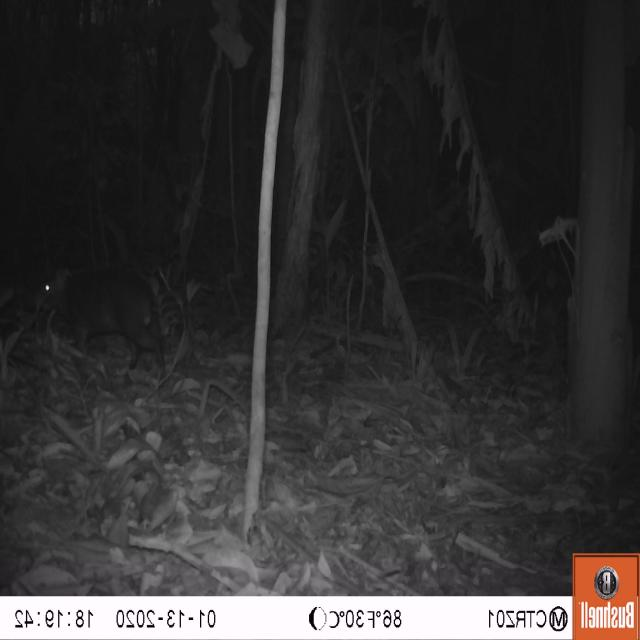Black Agouti: (32, 242, 176, 394)
